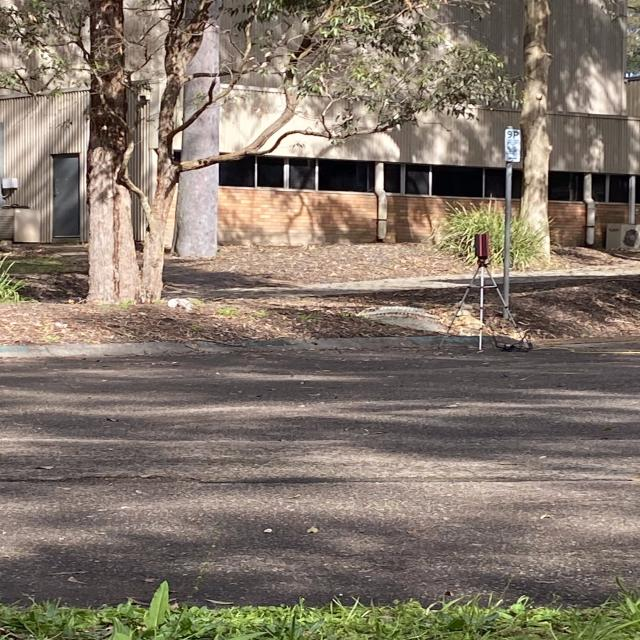matrix: (473, 231, 492, 259)
